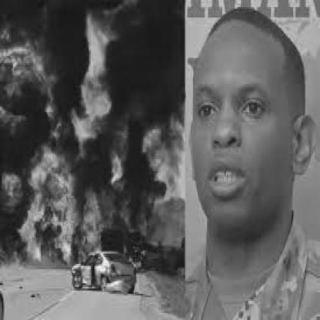Fire: (0, 23, 150, 269)
